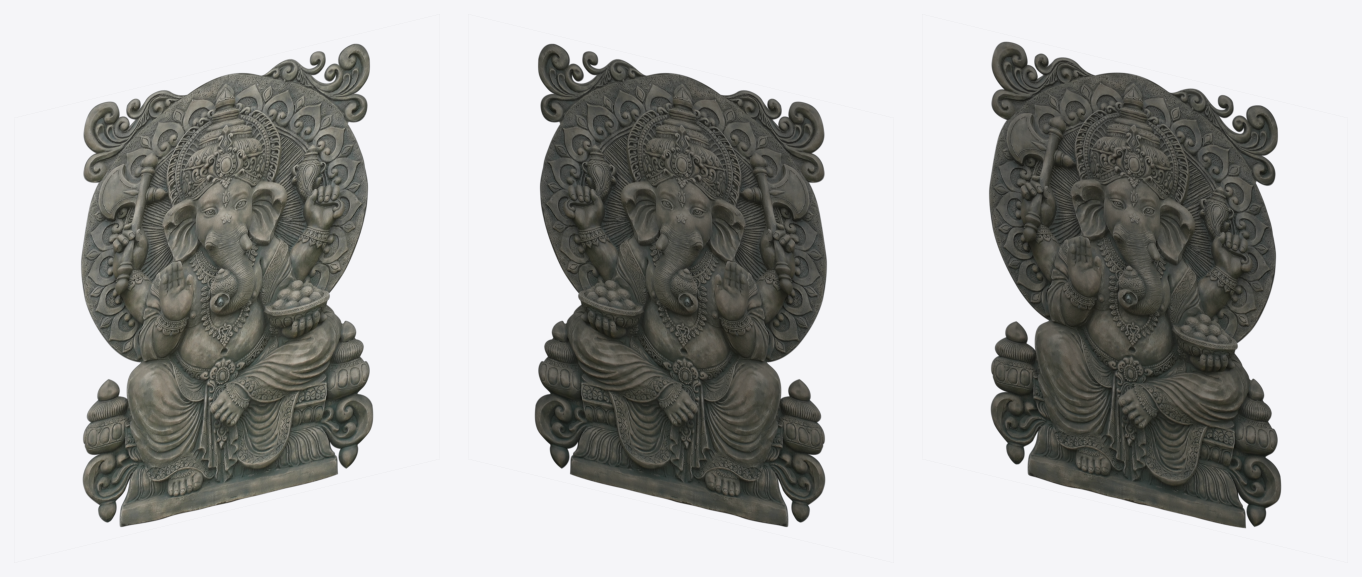
The model's file is the_hindu_god_ganesh.glb.
3 renders of one model, left to right at view 1: azimuth 30°, elevation 25°; view 2: azimuth 150°, elevation 25°; view 3: azimuth 330°, elevation 25°, orthographic.
Visible parts, largest first — view 1: Object_2; view 2: Object_2; view 3: Object_2.
Boxes of the visible parts, box(x1,y1,x2,y2) form: Object_2: box(81, 44, 372, 526); Object_2: box(535, 44, 826, 526); Object_2: box(989, 41, 1280, 527).
Bounding box in the file's own units: 1024 × 1024 × 2.27e-13.
1 material, 1 textured.
